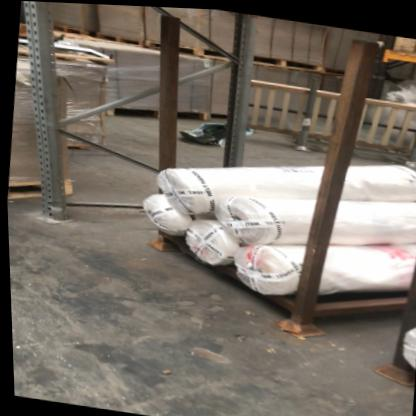vertical_damage: (30, 190, 78, 228)
